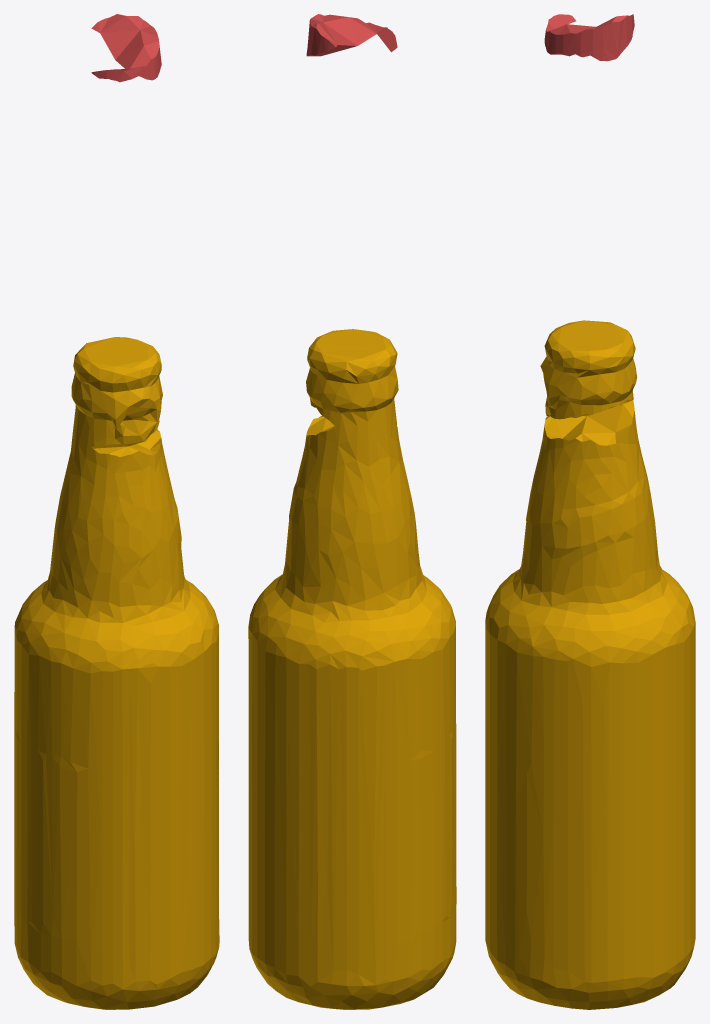
The model's file is fractured_70_2pcs_transformed.glb.
3 renders of one model, left to right at view 1: azimuth 30°, elevation 25°; view 2: azimuth 150°, elevation 25°; view 3: azimuth 270°, elevation 25°, orthographic. The views are drawn at different scales.
Parts seen in each view (by area): view 1: piece_0.obj, piece_1.obj; view 2: piece_0.obj, piece_1.obj; view 3: piece_0.obj, piece_1.obj.
Part boxes in pixels (box(x1,y1,x2,y2)): piece_0.obj: box(14, 337, 219, 1009); piece_1.obj: box(91, 14, 161, 82); piece_0.obj: box(248, 329, 456, 1009); piece_1.obj: box(306, 14, 397, 56); piece_0.obj: box(485, 320, 695, 1009); piece_1.obj: box(544, 14, 634, 61).
Size of the model in its own units: 0.2984 by 1.51 by 0.2976.
